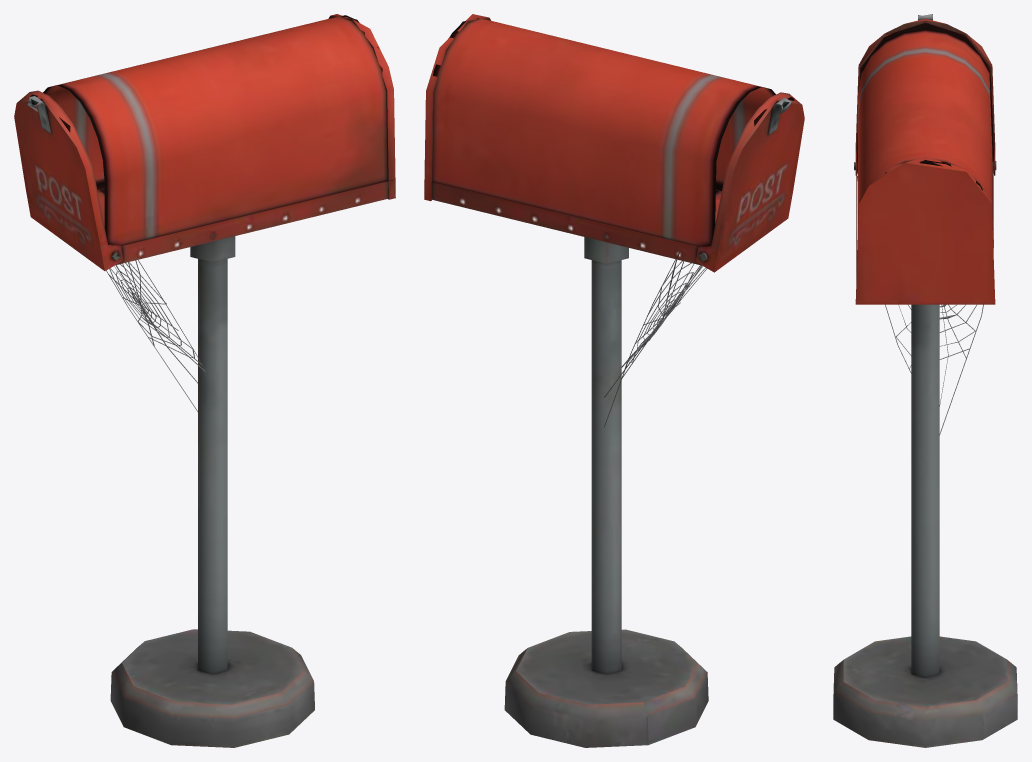
The model's file is mailbox.glb.
3 views of the same model, side by side, from view 1: azimuth 30°, elevation 25°; view 2: azimuth 150°, elevation 25°; view 3: azimuth 270°, elevation 25° (orthographic). The views are drawn at different scales.
Visible parts, largest first — view 1: polySurface48_lambert3_0, polySurface47_spiderweb_mat1_0; view 2: polySurface48_lambert3_0, polySurface47_spiderweb_mat1_0; view 3: polySurface48_lambert3_0, polySurface47_spiderweb_mat1_0.
Boxes of the visible parts, x1,y1,x2,y2 form: polySurface48_lambert3_0: (14, 14, 395, 747); polySurface47_spiderweb_mat1_0: (106, 260, 207, 411); polySurface48_lambert3_0: (424, 14, 804, 747); polySurface47_spiderweb_mat1_0: (604, 252, 707, 427); polySurface48_lambert3_0: (833, 14, 1017, 747); polySurface47_spiderweb_mat1_0: (857, 176, 993, 435).
Size of the model in its own units: 2.74 by 5.22 by 1.42.
2 materials, 1 textured.
